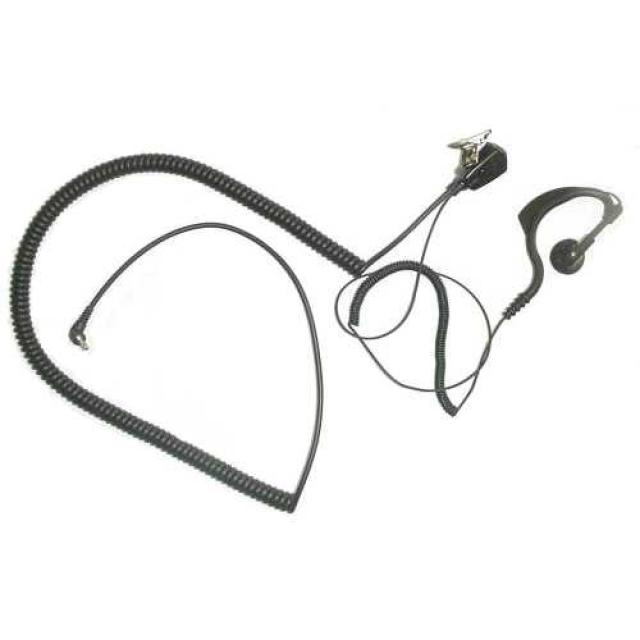microphone: (457, 142, 508, 192)
